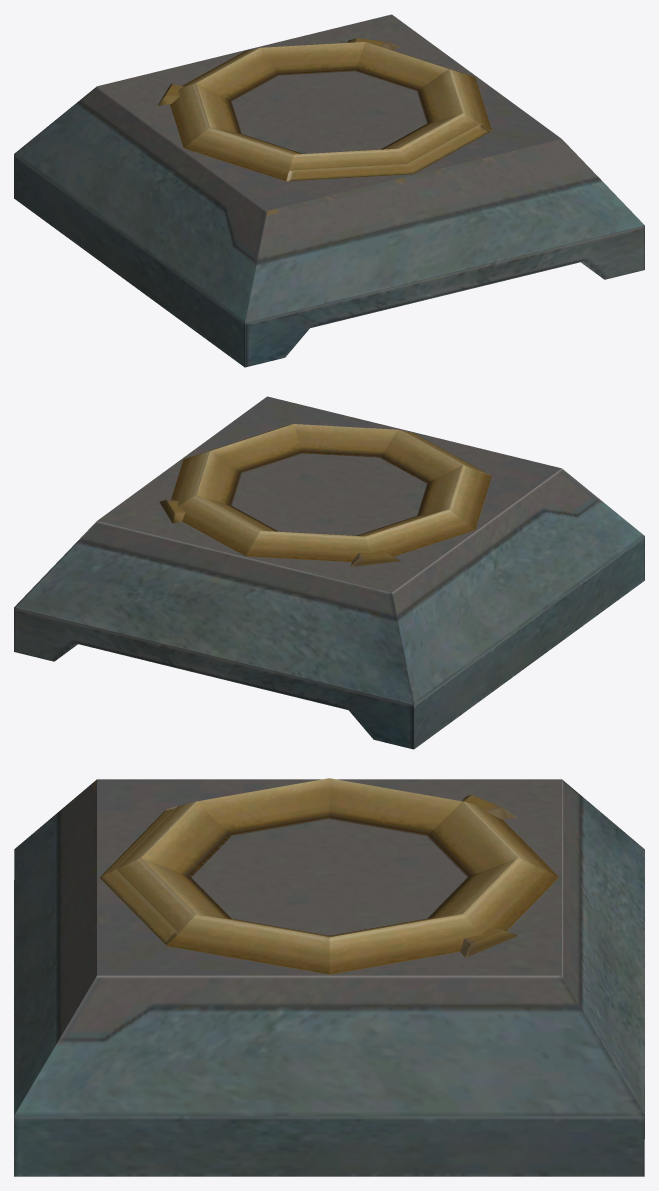
The model's file is con_gen_crate_basic_s3_l1.fbx.
3 renders of one model, top to bottom at view 1: azimuth 30°, elevation 25°; view 2: azimuth 150°, elevation 25°; view 3: azimuth 270°, elevation 25°, orthographic. The views are drawn at different scales.
Parts seen in each view (by area): view 1: mesh_node; view 2: mesh_node; view 3: mesh_node.
Part boxes in pixels (left/top/right/bottom): mesh_node: left=14, top=14, right=644, bottom=367; mesh_node: left=14, top=396, right=644, bottom=749; mesh_node: left=14, top=778, right=644, bottom=1176.
Bounding box in the file's own units: 0.6959 × 0.226 × 0.6959.
